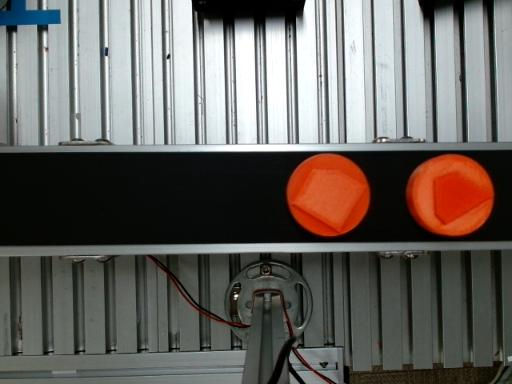Not_Square: (291, 167, 368, 232), (432, 171, 493, 226)
Orange_Waper: (406, 154, 494, 236), (286, 154, 370, 237)
